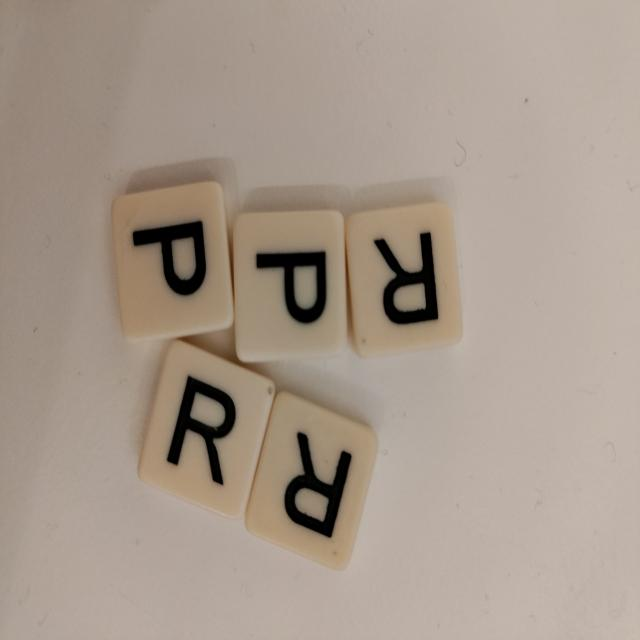p: (110, 179, 235, 341), (232, 210, 348, 362)
r: (135, 337, 277, 522), (243, 391, 382, 573), (344, 199, 464, 358)
